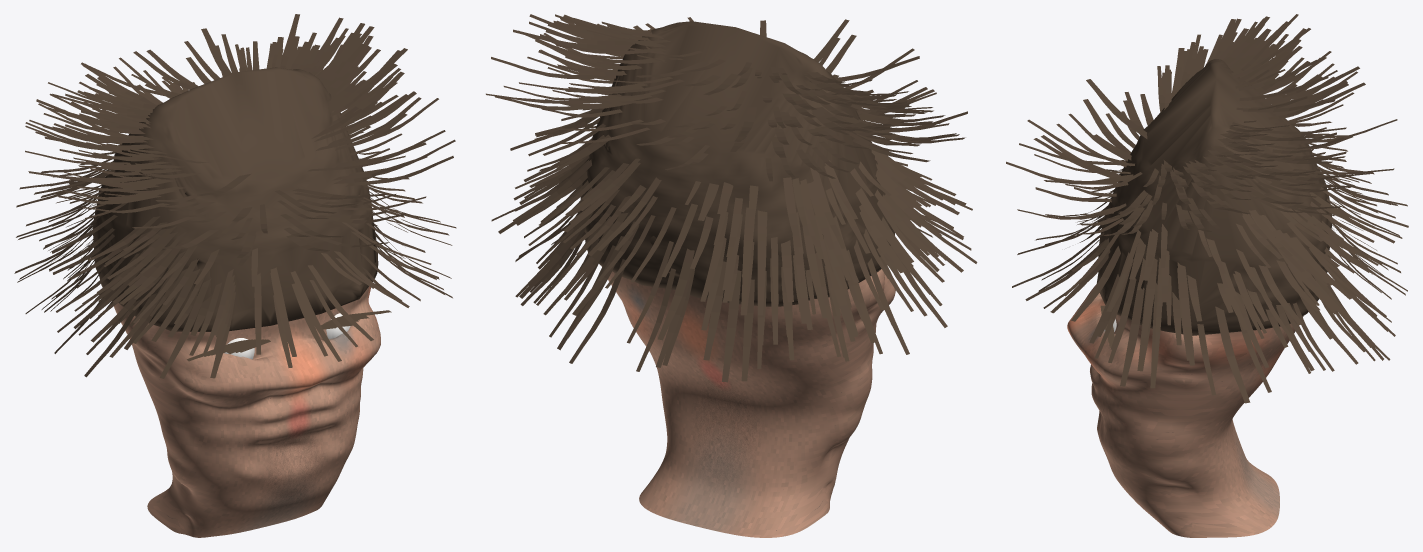
The model's file is TLS_crane_head_v3.glb.
3 renders of one model, left to right at view 1: azimuth 30°, elevation 25°; view 2: azimuth 150°, elevation 25°; view 3: azimuth 270°, elevation 25°, orthographic. The views are drawn at different scales.
Visible parts, largest first — view 1: TLS_crane_HairCap, TLS_crane_Head, card.077, card.047, card.087, card.109, card.079, card.048; view 2: TLS_crane_Head, TLS_crane_HairCap, card.037, card.091, card.022, card.063, card.189, card.169, card.008, card.011, card.299, card.308 (+5 smaller); view 3: TLS_crane_Head, TLS_crane_HairCap, card.049, card.029, card.142, card.140, card.116, card.333, card.068, card.153.
Boxes of the visible parts, left/top/right/bottom form: TLS_crane_HairCap: left=92, top=67, right=378, bottom=331; TLS_crane_Head: left=114, top=286, right=380, bottom=537; card.077: left=159, top=278, right=211, bottom=378; card.047: left=290, top=271, right=341, bottom=361; card.087: left=270, top=267, right=296, bottom=356; card.109: left=151, top=268, right=200, bottom=341; card.079: left=254, top=273, right=261, bottom=354; card.048: left=308, top=265, right=373, bottom=340; TLS_crane_Head: left=601, top=266, right=895, bottom=537; TLS_crane_HairCap: left=579, top=21, right=894, bottom=306; card.037: left=721, top=270, right=741, bottom=382; card.091: left=657, top=248, right=694, bottom=340; card.022: left=741, top=279, right=754, bottom=381; card.063: left=703, top=261, right=726, bottom=360; card.189: left=802, top=227, right=827, bottom=318; card.169: left=792, top=235, right=812, bottom=329; card.008: left=636, top=268, right=675, bottom=371; card.011: left=867, top=258, right=909, bottom=354; card.299: left=783, top=177, right=801, bottom=247; card.308: left=810, top=167, right=845, bottom=248; TLS_crane_Head: left=1067, top=284, right=1303, bottom=537; TLS_crane_HairCap: left=1097, top=59, right=1331, bottom=335; card.049: left=1120, top=283, right=1144, bottom=386; card.029: left=1215, top=306, right=1250, bottom=403; card.142: left=1177, top=262, right=1193, bottom=353; card.140: left=1141, top=258, right=1157, bottom=337; card.116: left=1071, top=246, right=1120, bottom=321; card.333: left=1086, top=79, right=1147, bottom=138; card.068: left=1110, top=278, right=1136, bottom=349; card.153: left=1258, top=265, right=1303, bottom=325.
Size of the model in its own units: 0.2547 by 0.2745 by 0.2357.
Materials: 7 (1 with a texture image).
